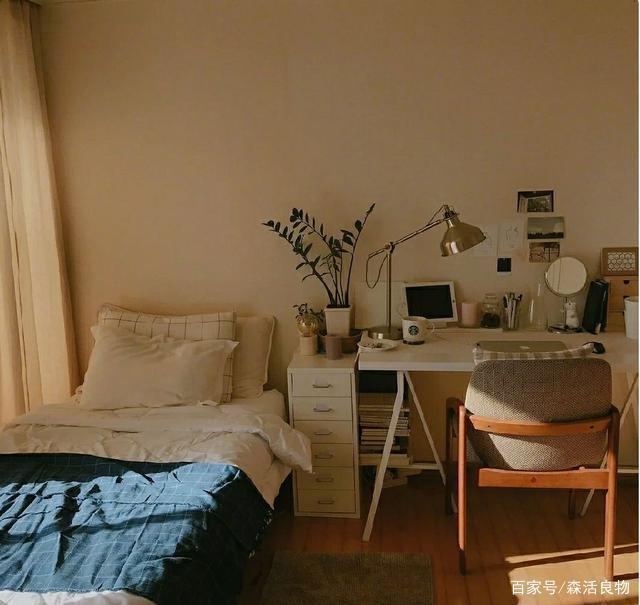床: (0, 372, 318, 603)
枕头: (76, 307, 247, 406)
灯: (371, 205, 479, 348)
